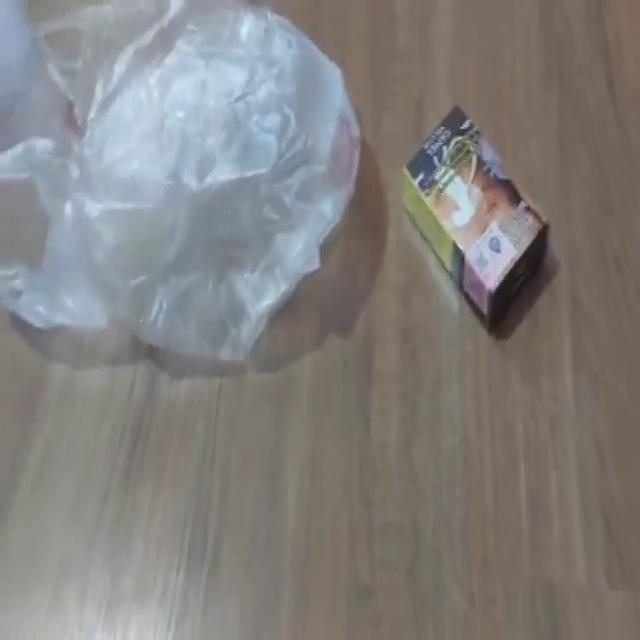Anorganik: (1, 2, 366, 372)
Organik: (398, 97, 553, 341)
